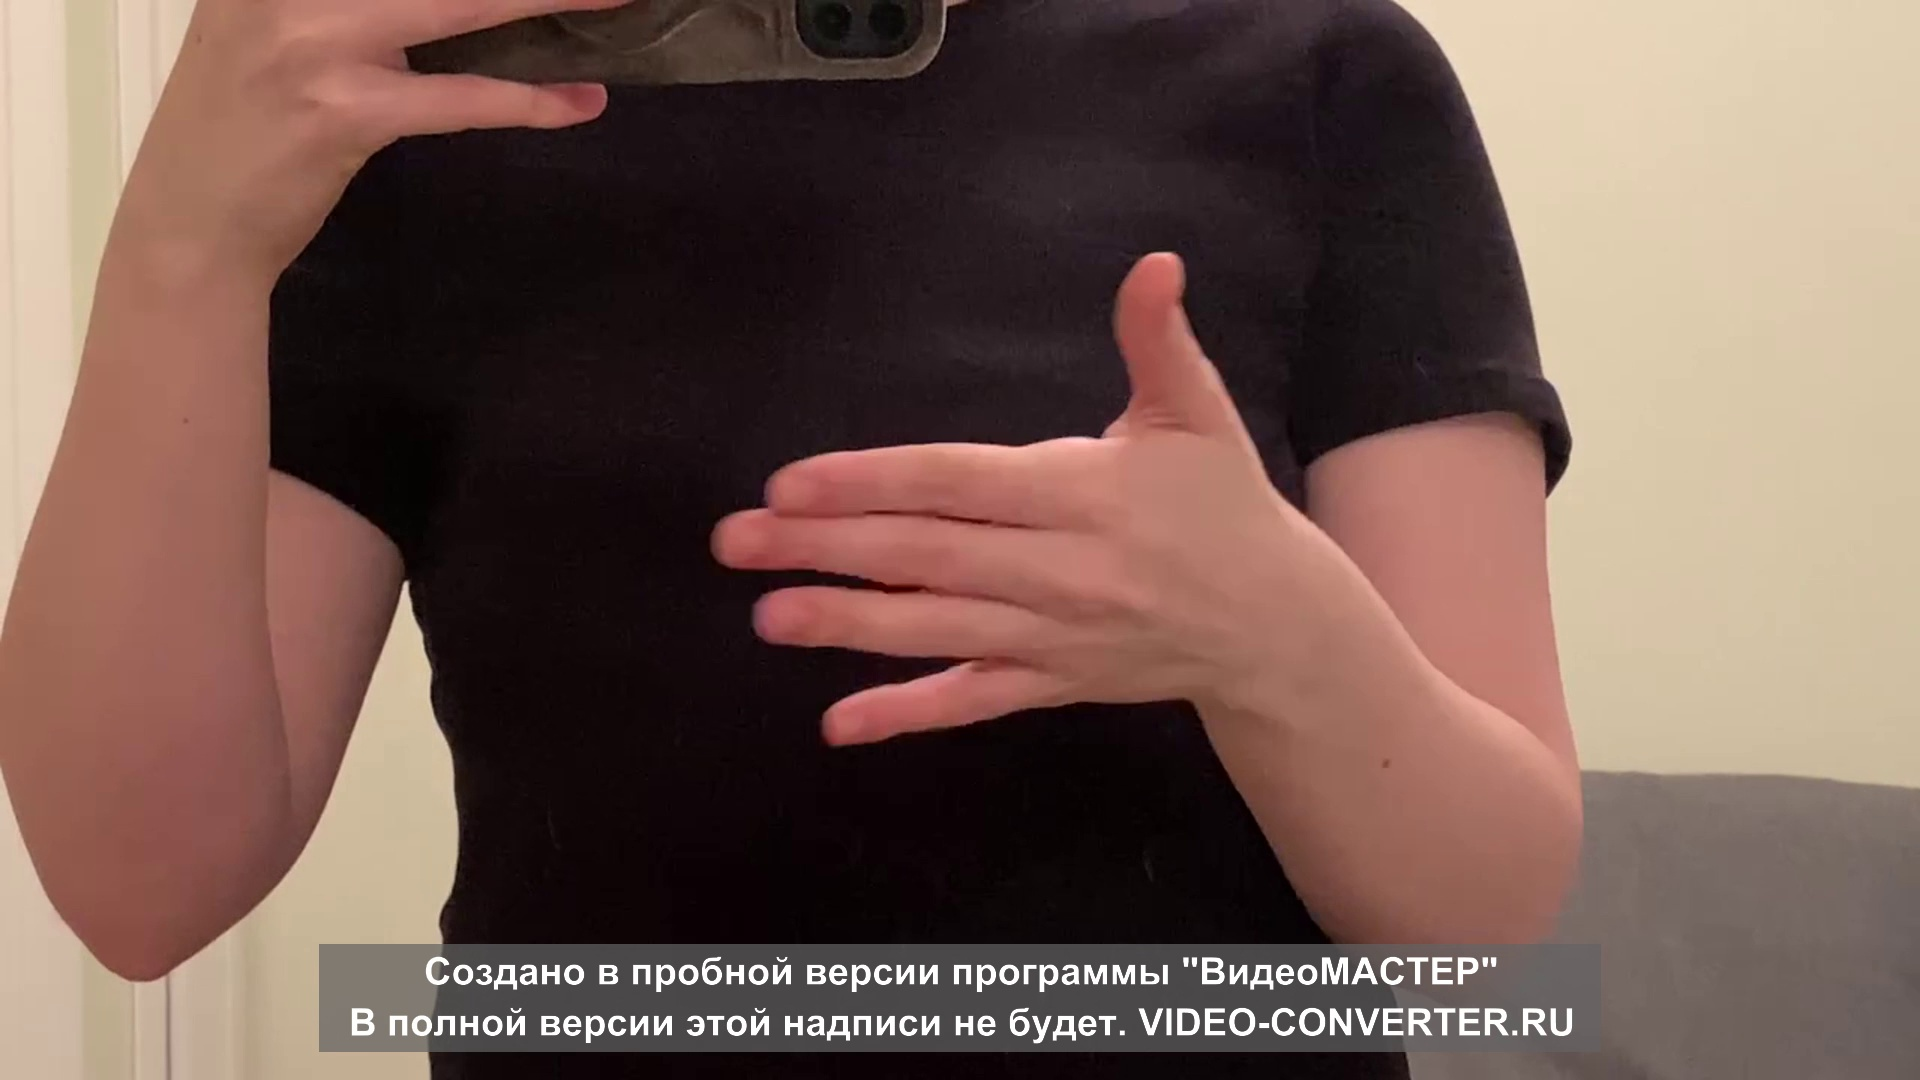Кисть: (715, 252, 1282, 740)
